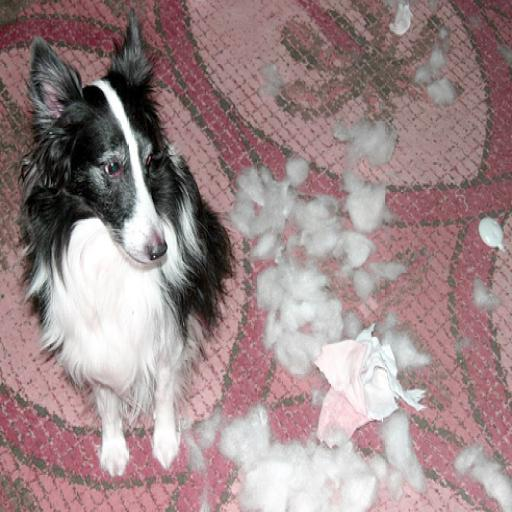dog_face: (29, 16, 174, 270)
